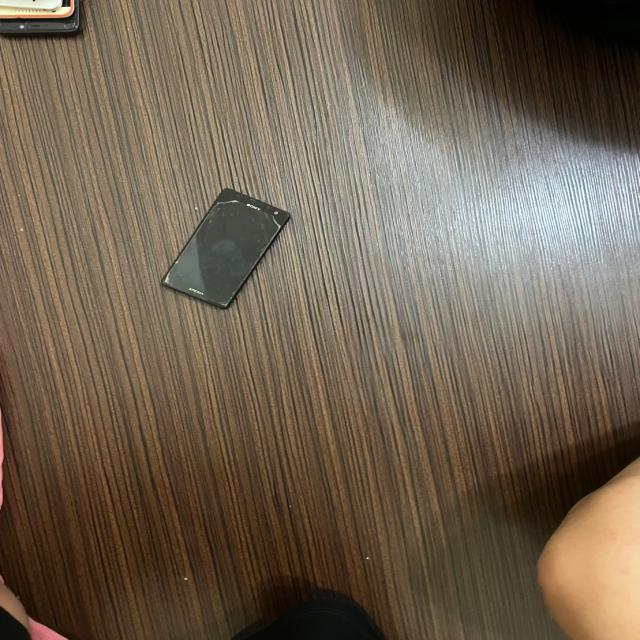Smartphone: (162, 188, 290, 308)
